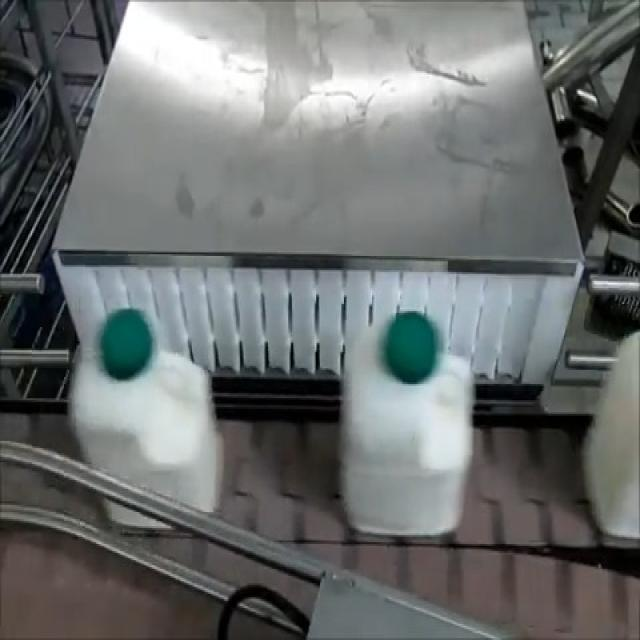green: (46, 299, 242, 554), (326, 299, 482, 567)
